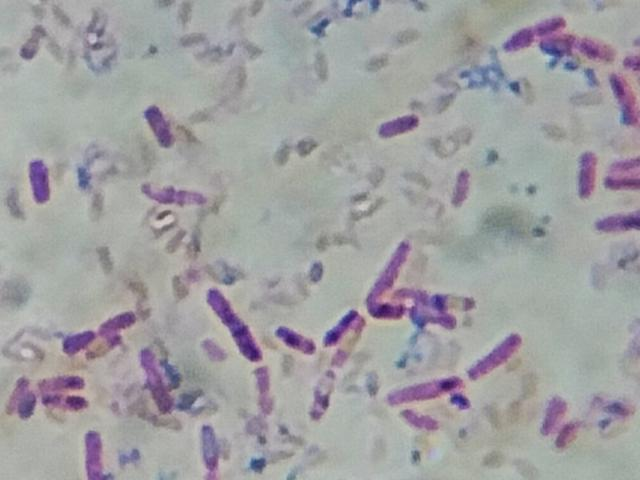E. coli: (213, 290, 265, 370), (456, 327, 529, 382), (138, 347, 182, 418), (386, 373, 469, 403), (403, 282, 479, 310), (374, 236, 408, 297), (139, 182, 209, 211), (442, 160, 476, 217), (378, 303, 461, 326), (502, 15, 566, 43), (26, 153, 56, 211), (608, 73, 640, 126), (551, 27, 607, 57), (281, 317, 319, 358), (49, 322, 96, 355), (322, 305, 360, 345), (141, 102, 172, 151), (253, 363, 281, 415), (199, 422, 224, 477), (576, 142, 597, 201), (93, 310, 137, 338), (379, 110, 421, 139), (43, 389, 90, 414), (82, 427, 104, 480), (539, 392, 564, 434), (39, 370, 87, 391), (606, 148, 640, 173), (6, 367, 25, 411), (557, 415, 577, 456), (19, 389, 39, 419)
